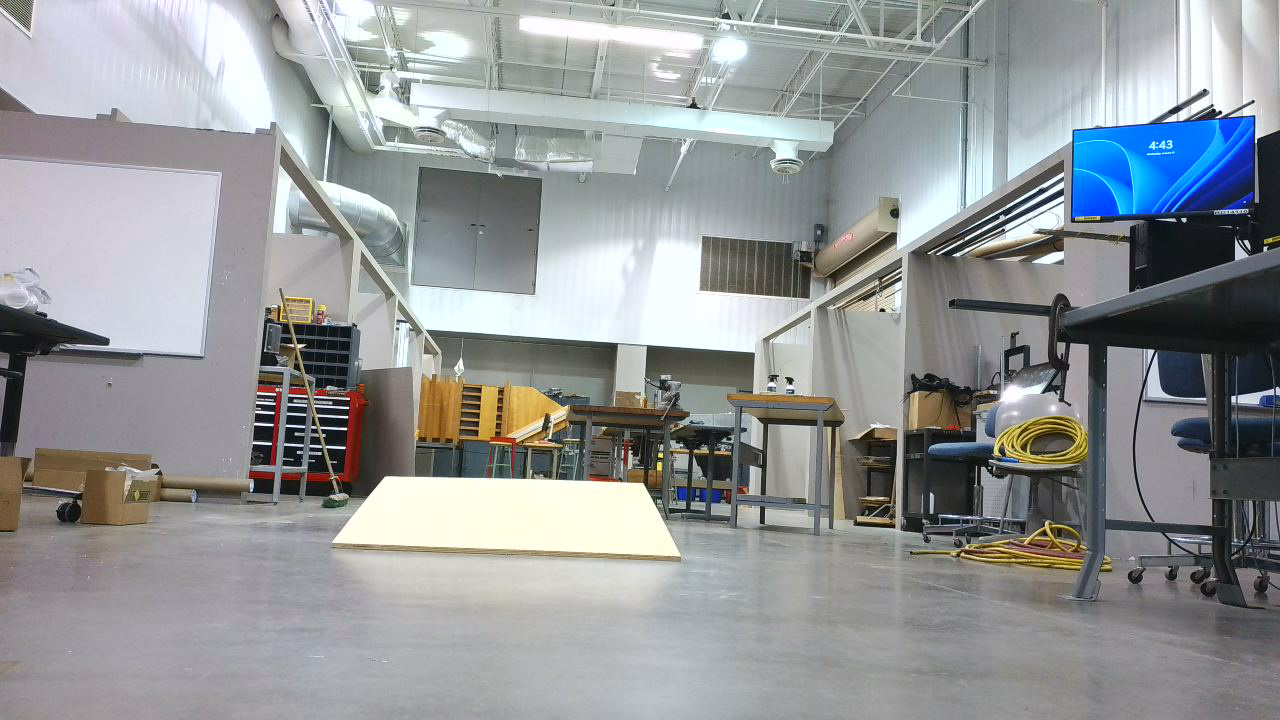ramp: (329, 477, 697, 571)
